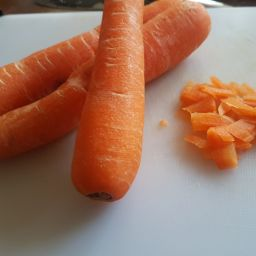Sliced carrots: (5, 2, 213, 199), (8, 40, 153, 199), (177, 69, 256, 180)
